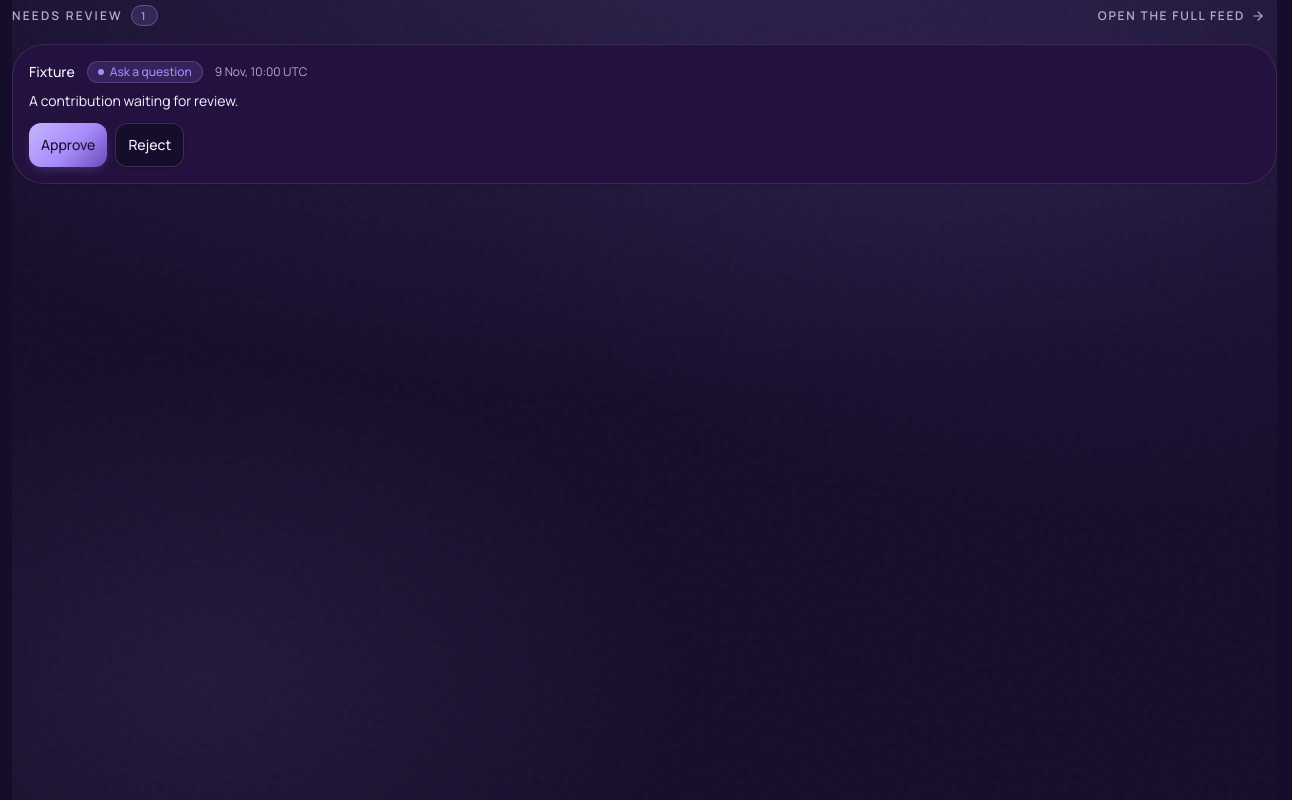
Test case: an unconfirmed transport failure keeps the row available for review
Click the button "Approve" at (68,145), box [29,123,107,167]
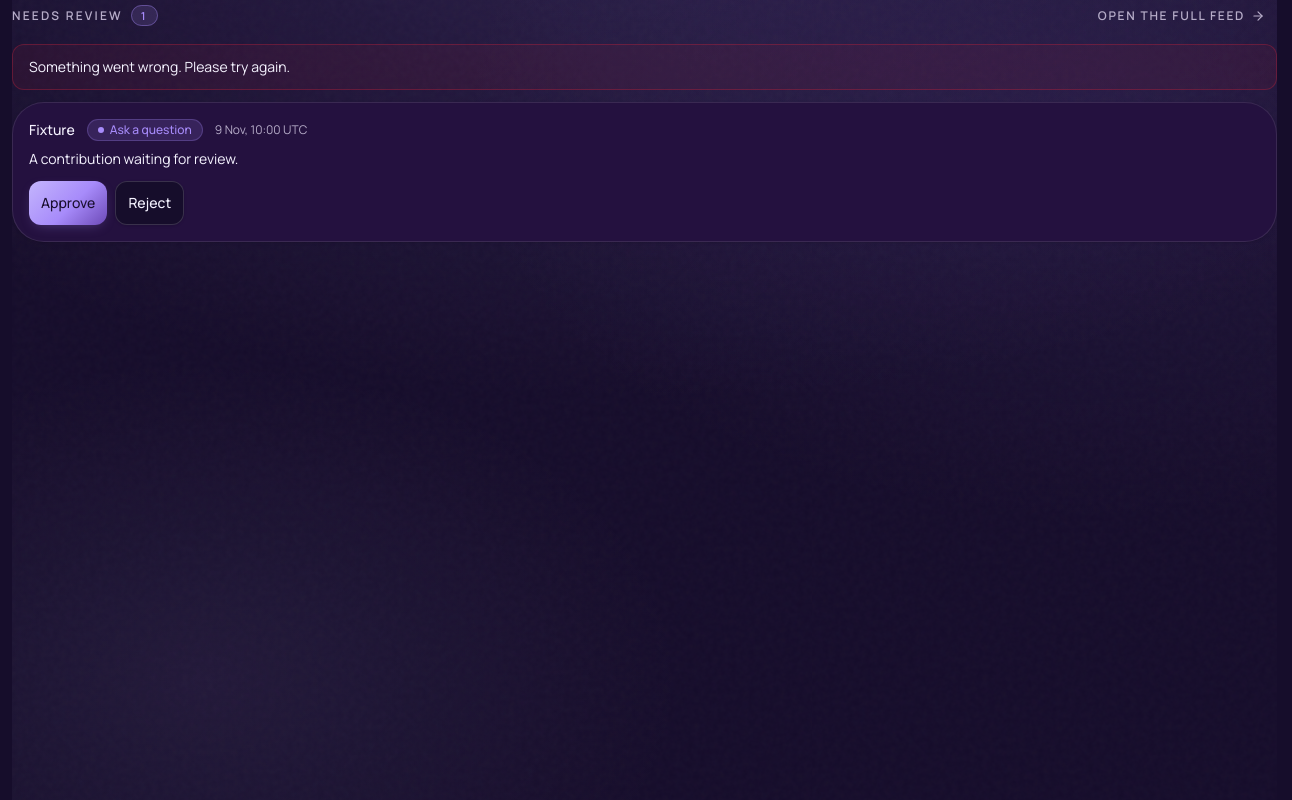
Expected: the text "A contribution waiting for review." is shown, [29,149,238,168]
Result: the message "Something went wrong. Please try again." is shown at [12,44,1277,90]
